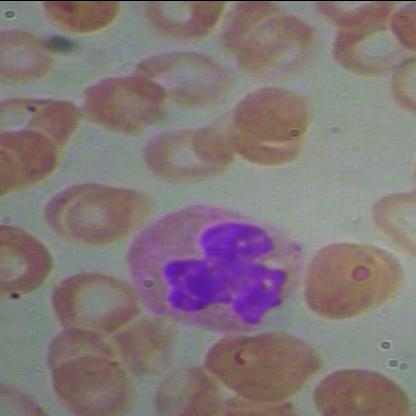WBC: (124, 202, 310, 340)
